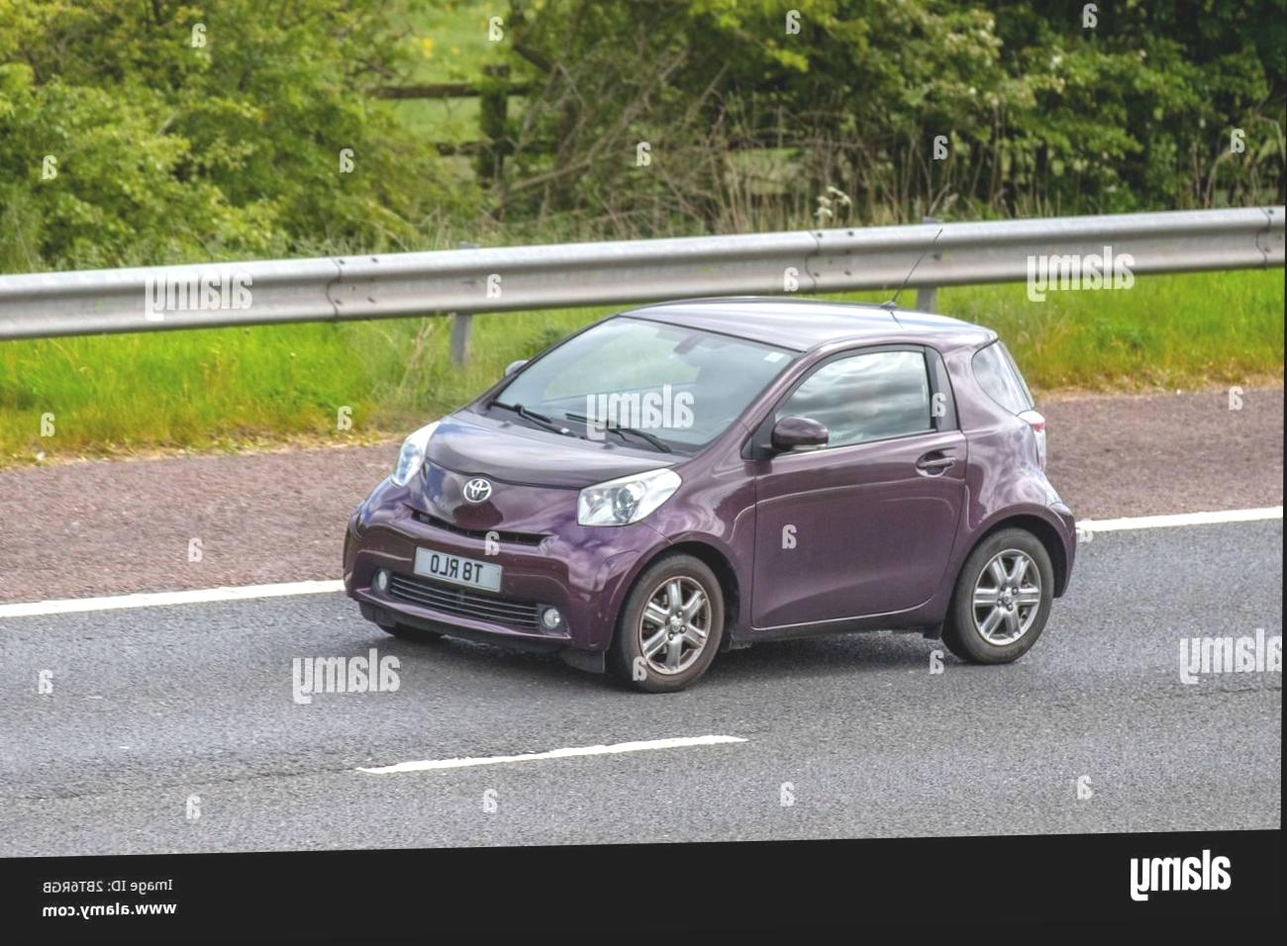License_Plate: (391, 540, 516, 599)
